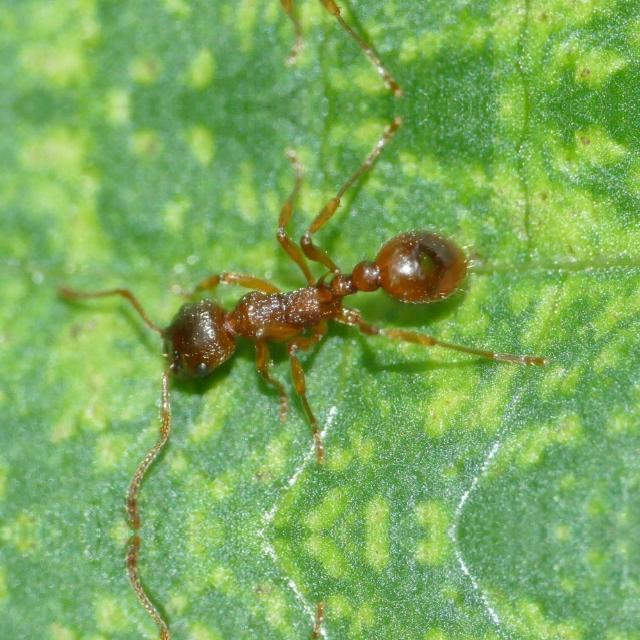Myrmica: (148, 211, 500, 417)
